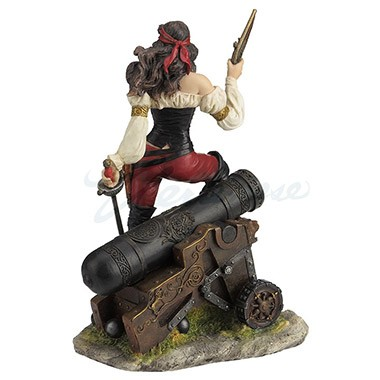pistol: (213, 2, 275, 85)
